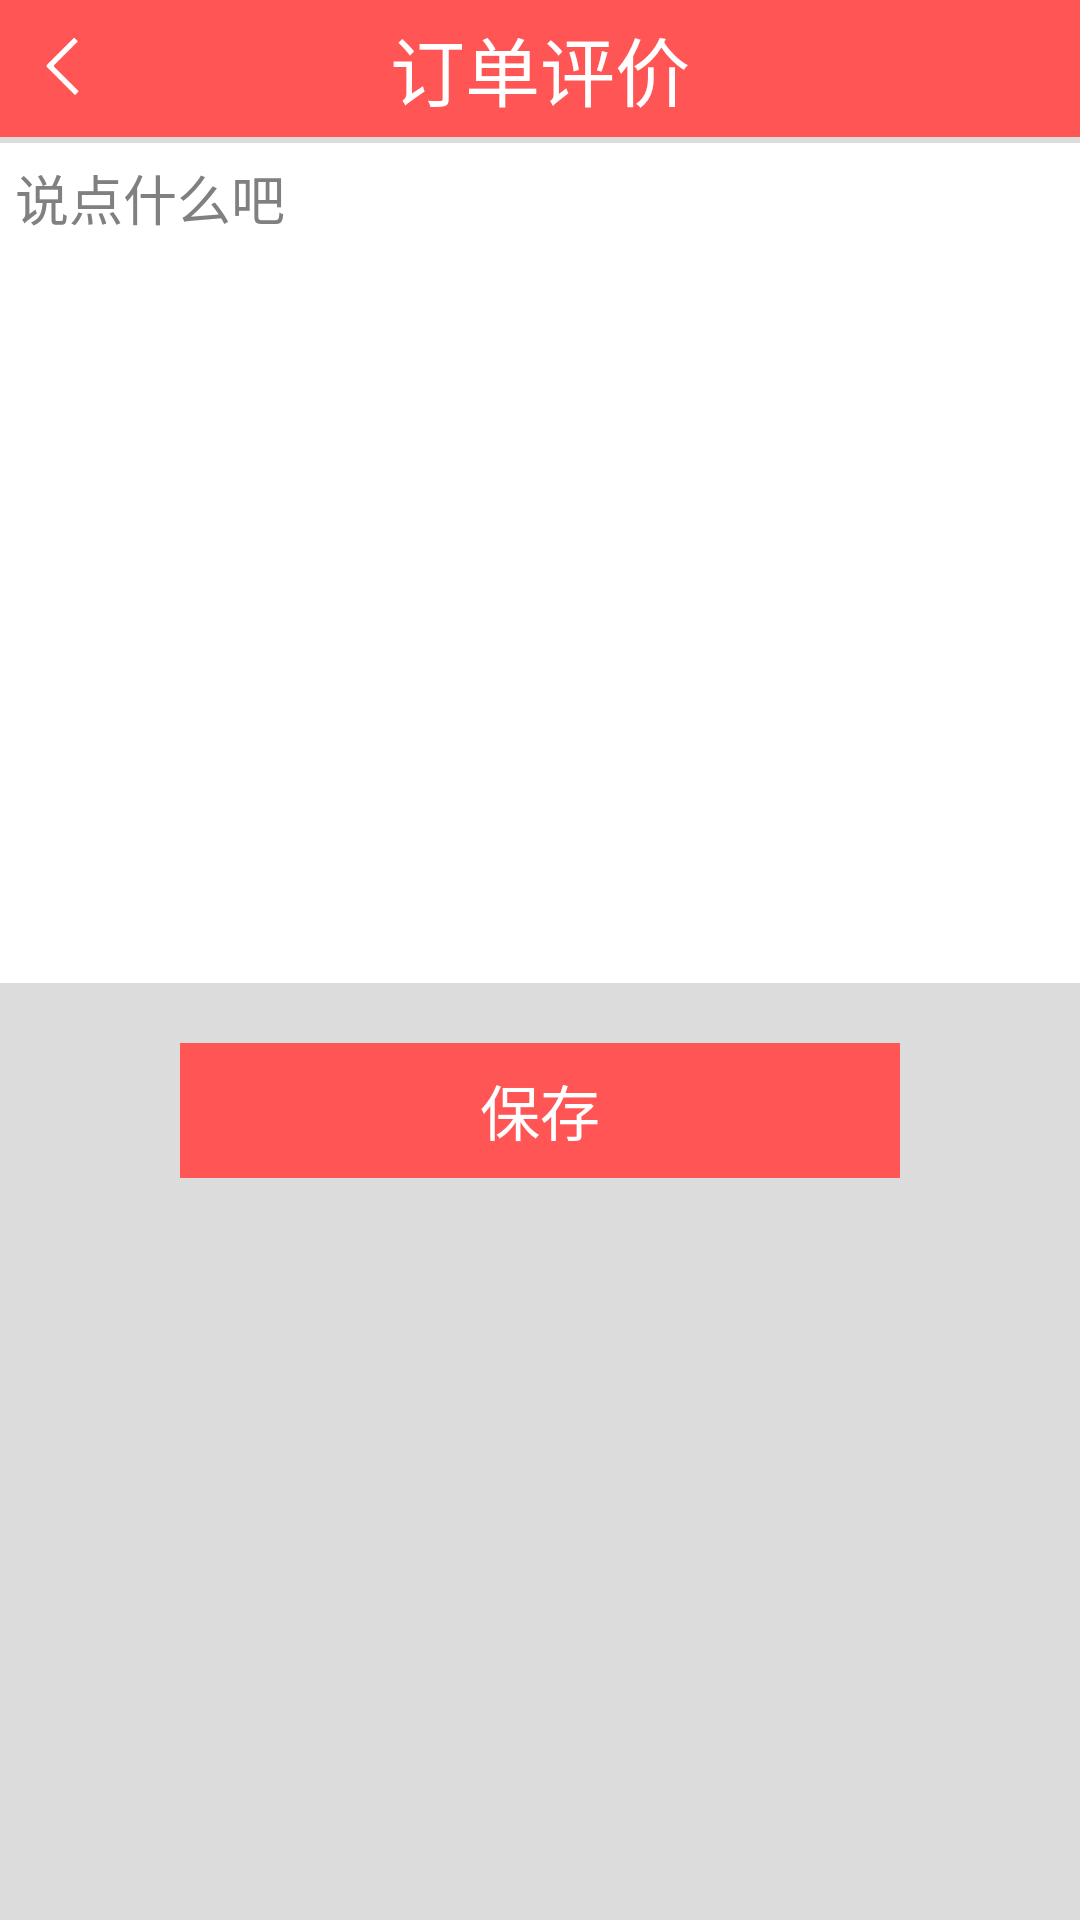

Named icons in this screenshot (1080px x 1920px) and their bounding boxes, (x1, y1, x2, y2):
jiantou left: (46, 38, 79, 95)
